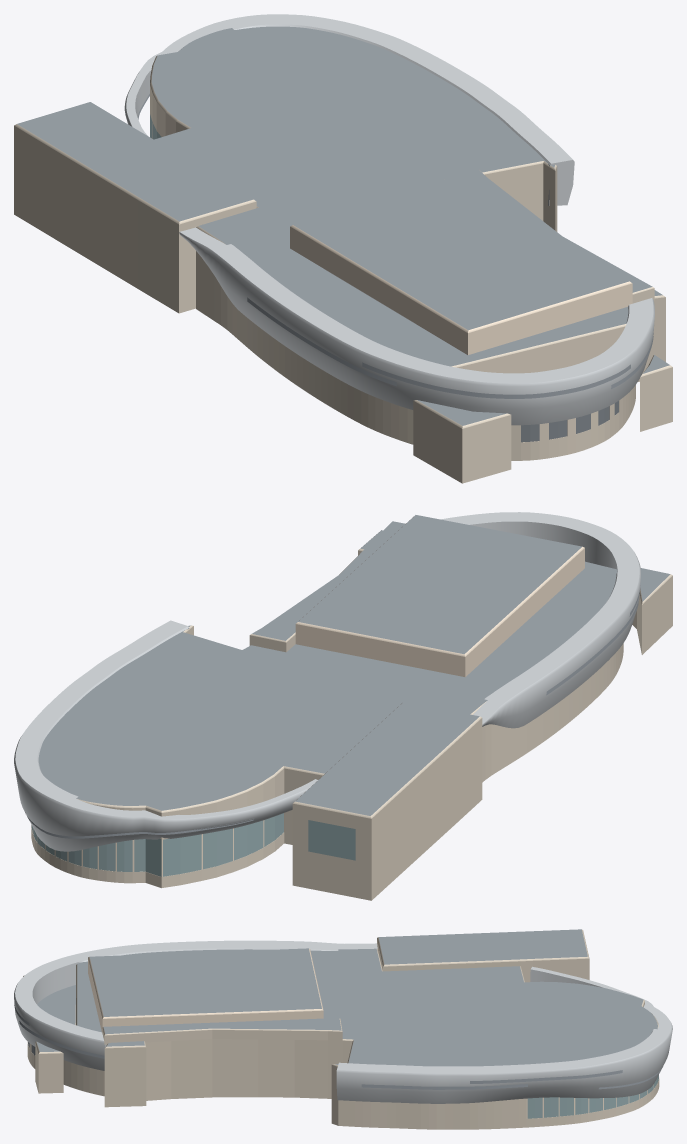
File: nascar-hall-of-fame.glb
3 views of the same model, one above another, from view 1: azimuth 30°, elevation 25°; view 2: azimuth 150°, elevation 25°; view 3: azimuth 270°, elevation 25° (orthographic). The views are drawn at different scales.
Parts seen in each view (by area): view 1: NASCAR Hall of Fame; view 2: NASCAR Hall of Fame; view 3: NASCAR Hall of Fame.
Part boxes in pixels (x1,y1,x2,y2): NASCAR Hall of Fame: [14, 14, 672, 483]; NASCAR Hall of Fame: [14, 512, 672, 900]; NASCAR Hall of Fame: [14, 929, 672, 1129].
Bounding box in the file's own units: 104 × 26.5 × 205.
